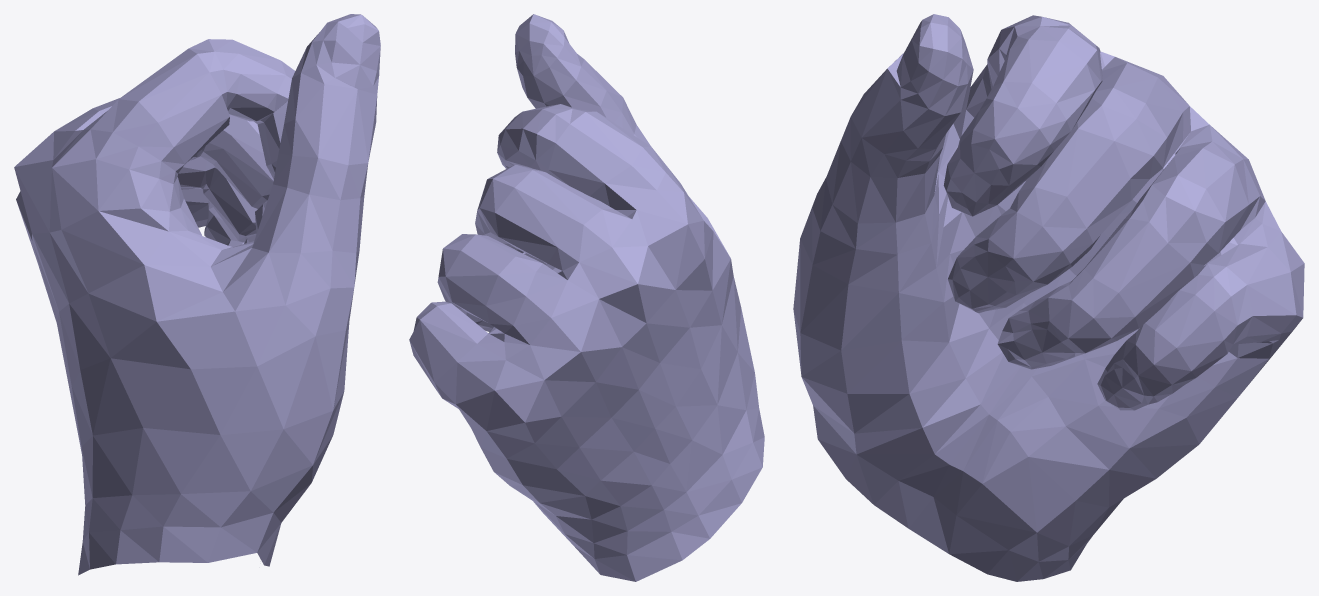
The model's file is frame_0008_source_000008_hand.glb.
3 views of the same model, side by side, from view 1: azimuth 30°, elevation 25°; view 2: azimuth 150°, elevation 25°; view 3: azimuth 270°, elevation 25° (orthographic). The views are drawn at different scales.
Visible parts, largest first — view 1: world; view 2: world; view 3: world.
Part boxes in pixels (x1=…): world: x1=14, y1=14, x2=380, y2=575; world: x1=409, y1=14, x2=764, y2=581; world: x1=793, y1=14, x2=1304, y2=581.
Bounding box in the file's own units: 0.0629 × 0.1254 × 0.0932.
